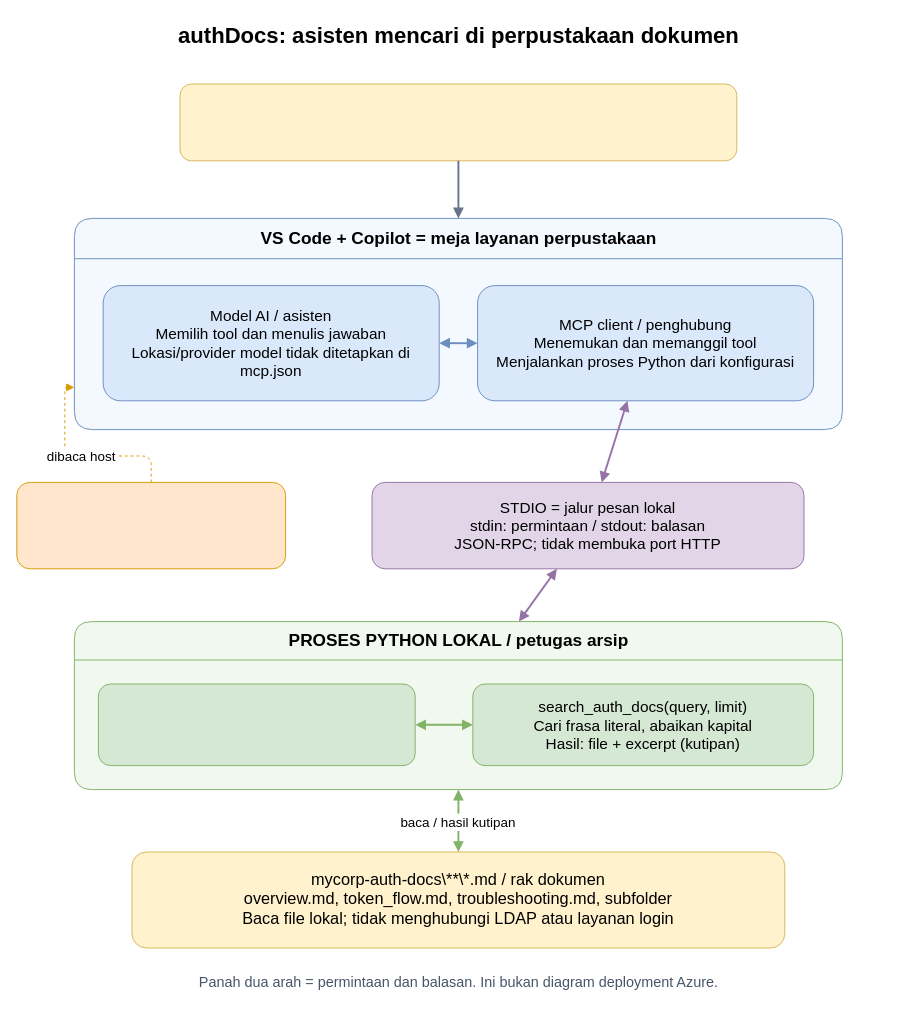
This 917x1017 diagram has some shape labels left out. The centre of each missing label's shape, as x and y in pixels:
.vscode\mcp.json Petunjuk executable + script type = stdio: point 151,525
FastMCP("authDocs") Mengurus protokol MCP Log ke stderr, bukan stdout: point 256,724
PENGGUNA / PEMBACA "Jelaskan alur token MyCorp-Auth dalam 4 langkah": point 458,122
